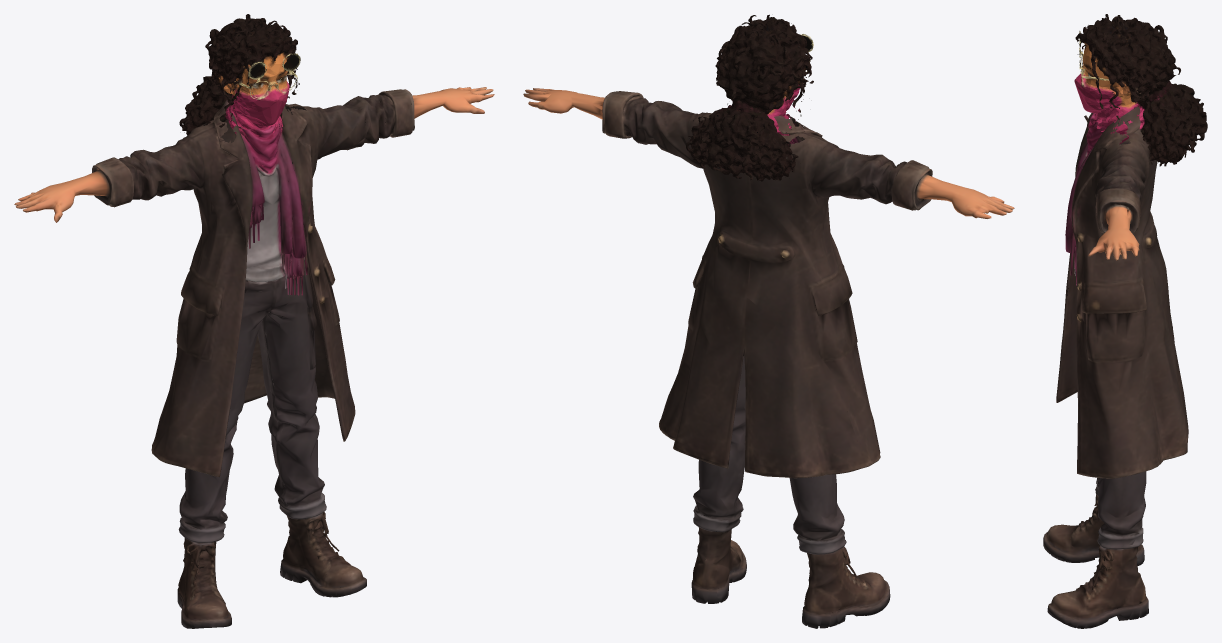
Rendered from prepared.glb.
The picture shows the model from 3 angles, left to right: view 1: azimuth 30°, elevation 25°; view 2: azimuth 150°, elevation 25°; view 3: azimuth 270°, elevation 25°; orthographic projection. The views are drawn at different scales.
Visible parts, largest first — view 1: operator; view 2: operator; view 3: operator.
Boxes of the visible parts, bbox=[...] form: operator: bbox=[14, 14, 494, 628]; operator: bbox=[523, 14, 1014, 628]; operator: bbox=[1043, 14, 1207, 628].
Bounding box in the file's own units: 1.47 × 1.68 × 0.439.
1 material, 1 textured.
